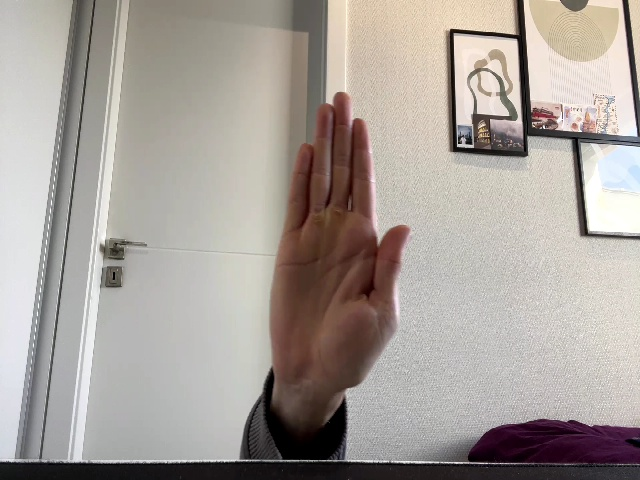B: (269, 92, 412, 392)
